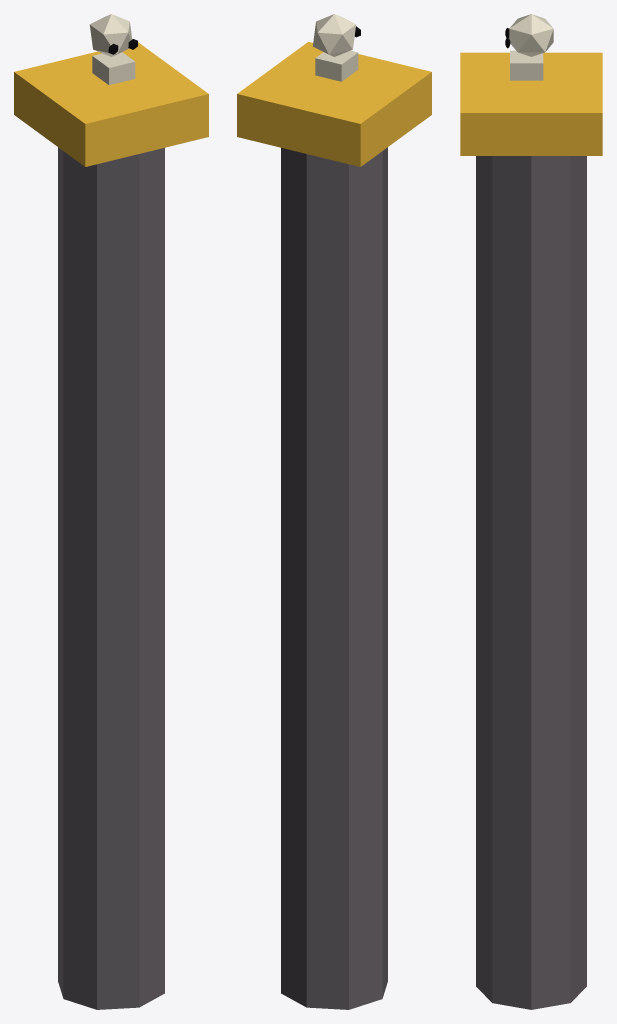
Rendered from Bld_OR_Pillar_09.glb.
3 views of the same model, side by side, from view 1: azimuth 30°, elevation 25°; view 2: azimuth 150°, elevation 25°; view 3: azimuth 270°, elevation 25° (orthographic).
Visible parts, largest first — view 1: Bld_OR_Pillar_09; view 2: Bld_OR_Pillar_09; view 3: Bld_OR_Pillar_09.
Boxes of the visible parts, left/top/right/bottom form: Bld_OR_Pillar_09: left=14, top=14, right=208, bottom=1009; Bld_OR_Pillar_09: left=237, top=14, right=431, bottom=1009; Bld_OR_Pillar_09: left=460, top=14, right=602, bottom=1009.
Size of the model in its own units: 0.9 by 6.78 by 0.9.
